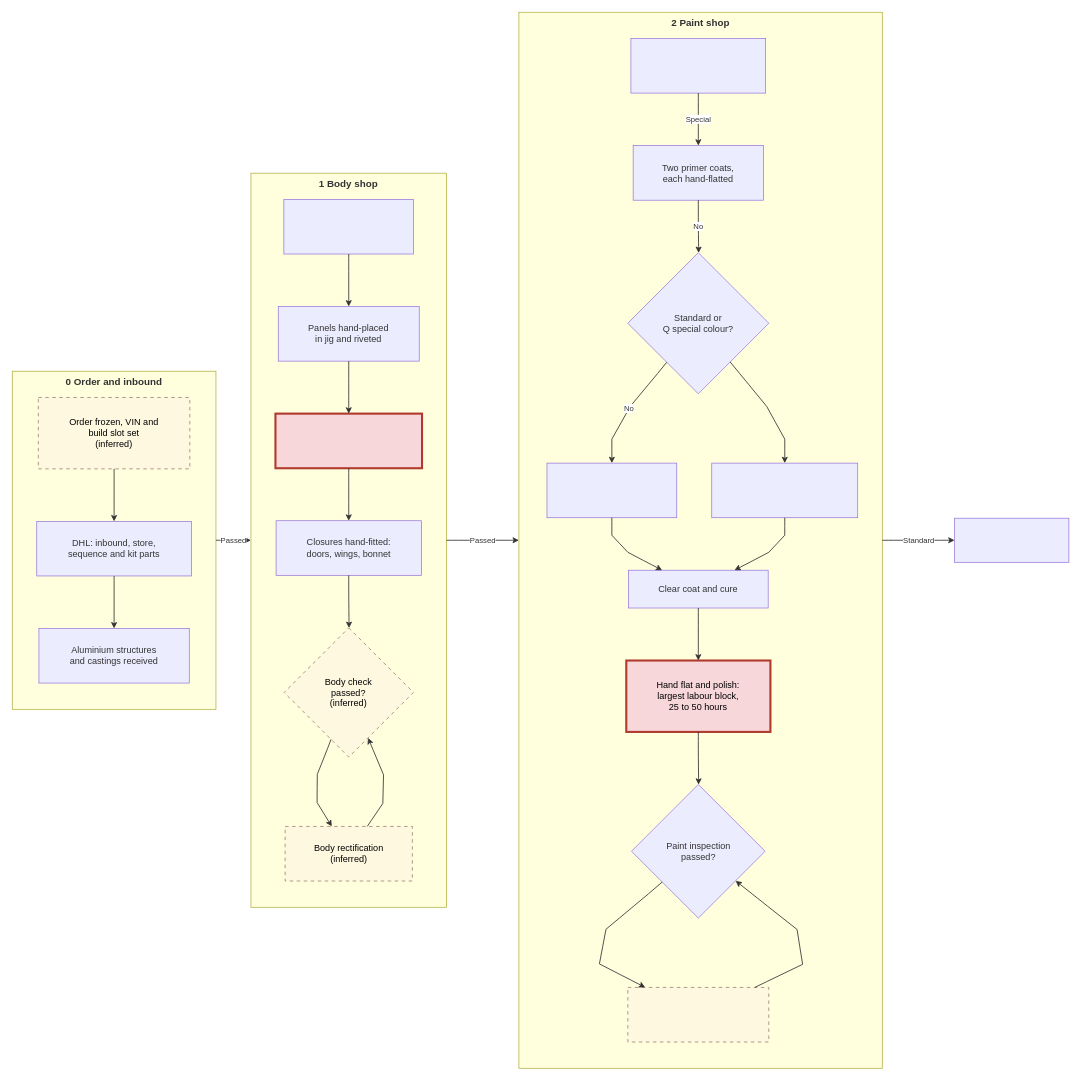
This 1082x1081 diagram has some shape labels left out. Each missing label, with the centre of its shape:
Clean and prepare body shell: pixel 698 65
Hand-sprayed colour (forum evidence): pixel 784 490
Oven cure of bonded structure: sets takt: pixel 348 440
Re-flat, re-polish or respray (inferred): pixel 698 1014
Robot applies bonding adhesive: pixel 348 226
Robot colour coat (forum evidence): pixel 611 490
To part b: trim and final assembly: pixel 1011 540
